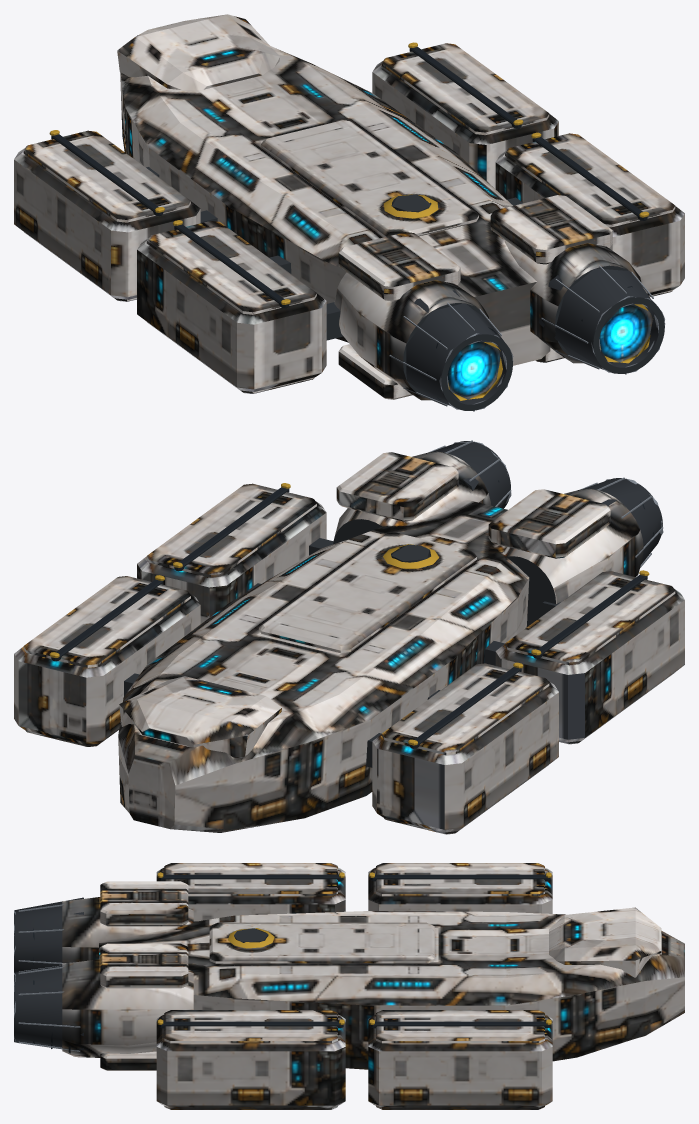
File: troop-transport-lod2.glb
3 renders of one model, top to bottom at view 1: azimuth 30°, elevation 25°; view 2: azimuth 150°, elevation 25°; view 3: azimuth 270°, elevation 25°, orthographic. The views are drawn at different scales.
Parts seen in each view (by area): view 1: Static / Reference artwork | titanium, brass, panels and can, Static / Structural frames | gunmetal, Static / Structural rails | dark alloy, Static / Machined titanium edges, Static / Ventral armor | dedicated bottom-view reference, Static / Warm brass collars; view 2: Static / Reference artwork | titanium, brass, panels and can, Static / Structural frames | gunmetal, Static / Structural rails | dark alloy, Static / Ventral armor | dedicated bottom-view reference, Static / Warm brass collars, Static / Machined titanium edges; view 3: Static / Reference artwork | titanium, brass, panels and can, Static / Structural frames | gunmetal, Static / Structural rails | dark alloy, Static / Ventral armor | dedicated bottom-view reference, Static / Machined titanium edges, Static / Warm brass collars.
Part boxes in pixels (x1,y1,x2,y2): Static / Reference artwork | titanium, brass, panels and can: (14,14,684,399); Static / Structural frames | gunmetal: (146,167,664,410); Static / Structural rails | dark alloy: (51,47,647,399); Static / Machined titanium edges: (389,265,665,411); Static / Ventral armor | dedicated bottom-view reference: (16,222,679,400); Static / Warm brass collars: (49,42,650,400); Static / Reference artwork | titanium, brass, panels and can: (14,451,684,833); Static / Structural frames | gunmetal: (124,441,662,767); Static / Structural rails | dark alloy: (51,447,653,748); Static / Ventral armor | dedicated bottom-view reference: (19,488,681,834); Static / Warm brass collars: (49,483,649,745); Static / Machined titanium edges: (429,440,663,567); Static / Reference artwork | titanium, brass, panels and can: (62,863,684,1109); Static / Structural frames | gunmetal: (14,897,268,1050); Static / Structural rails | dark alloy: (33,874,550,1053); Static / Ventral armor | dedicated bottom-view reference: (62,923,684,1109); Static / Machined titanium edges: (14,904,80,1051); Static / Warm brass collars: (157,872,551,1024).
Size of the model in its own units: 11.5 by 3.11 by 17.75.
7 materials, 2 textured.
